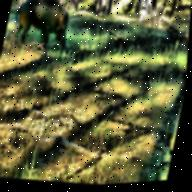boar: (4, 0, 79, 66)
